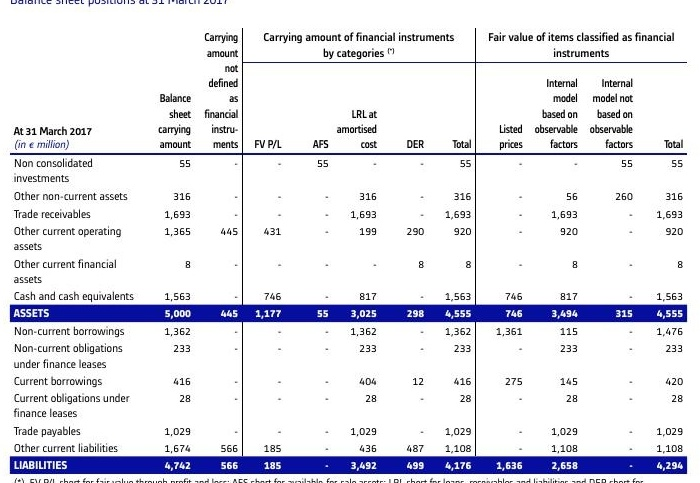table: (0, 0, 700, 483)
